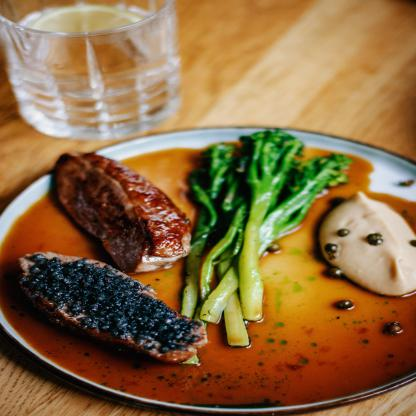Carne: (47, 144, 190, 270)
